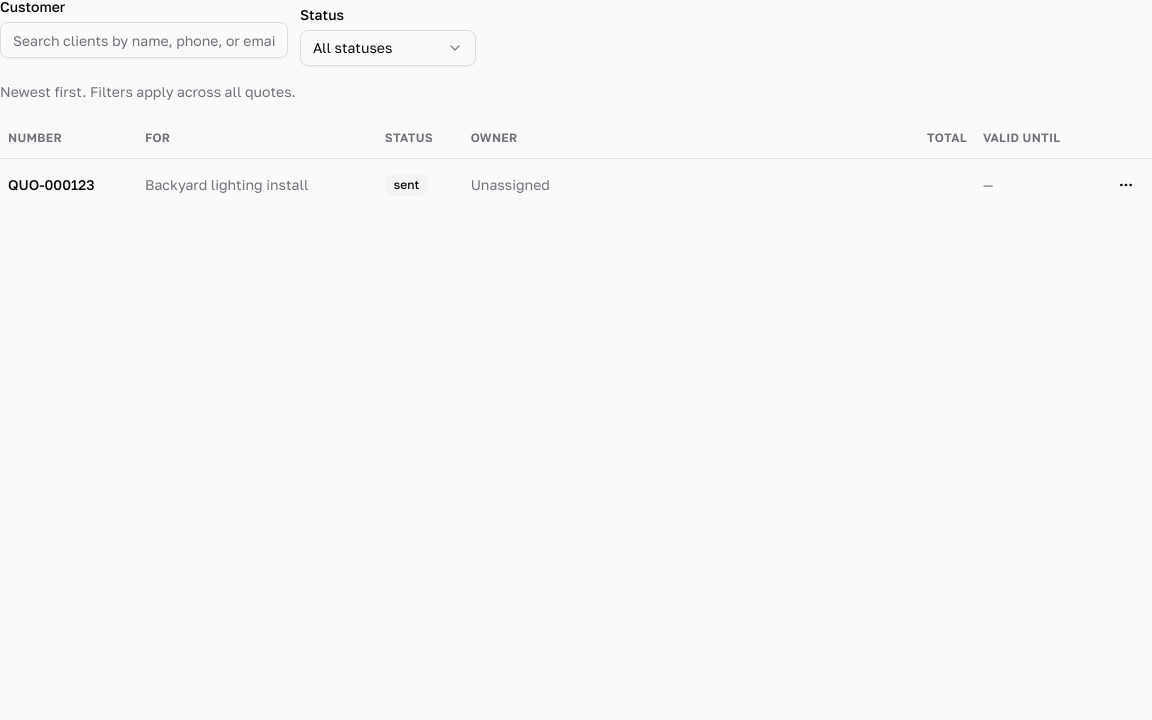
Test: QuotesList editing and deleting › opens basic details for an editable quote without a linked lighting project
Click the button "QUO-000123" at (51, 184), box left=8, top=174, right=94, bottom=194
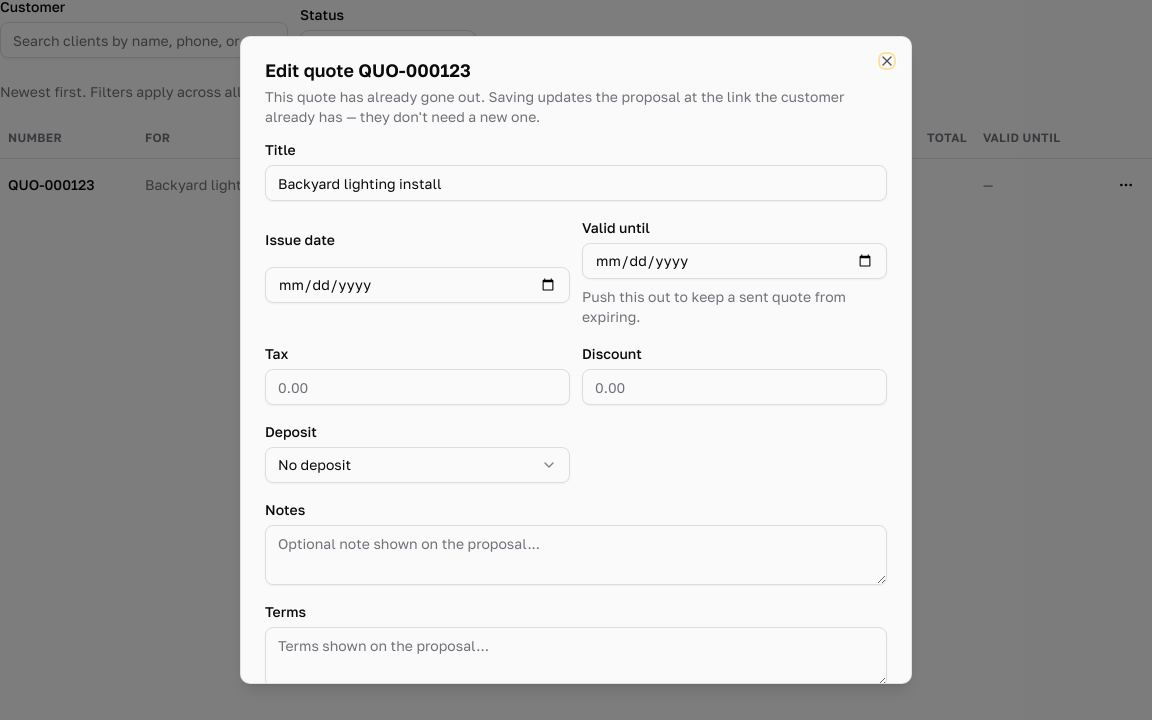
Expected: the heading "Edit quote QUO-000123" is shown, left=265, top=59, right=471, bottom=81
